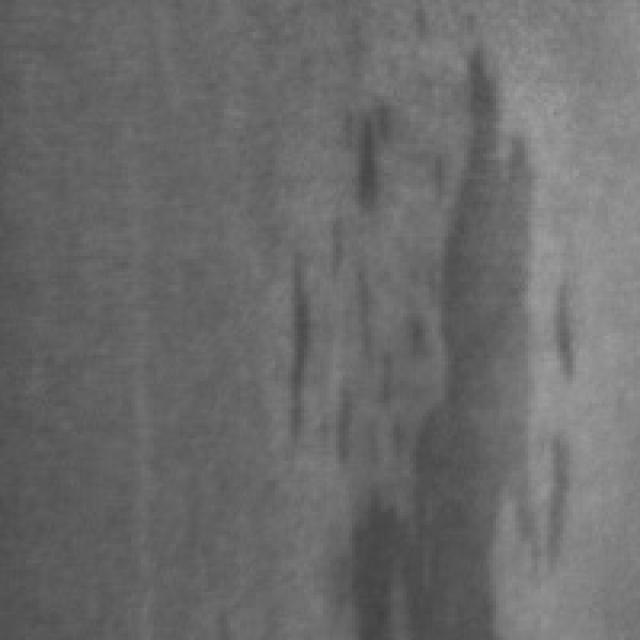inclusion: (320, 29, 586, 630), (298, 211, 435, 464), (330, 90, 410, 220)
